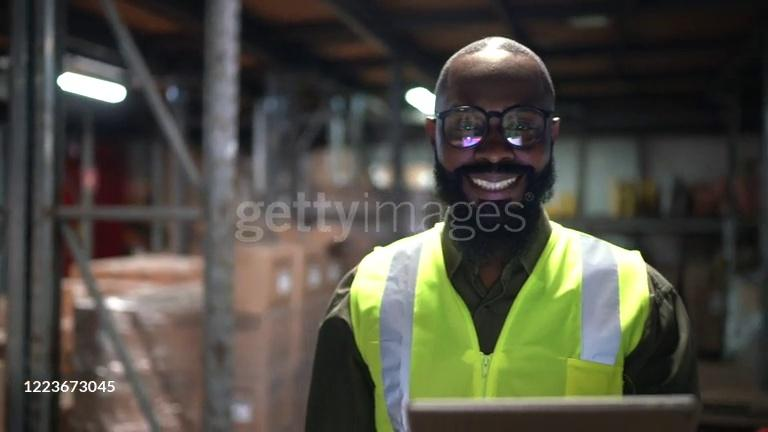person: (296, 30, 707, 432)
